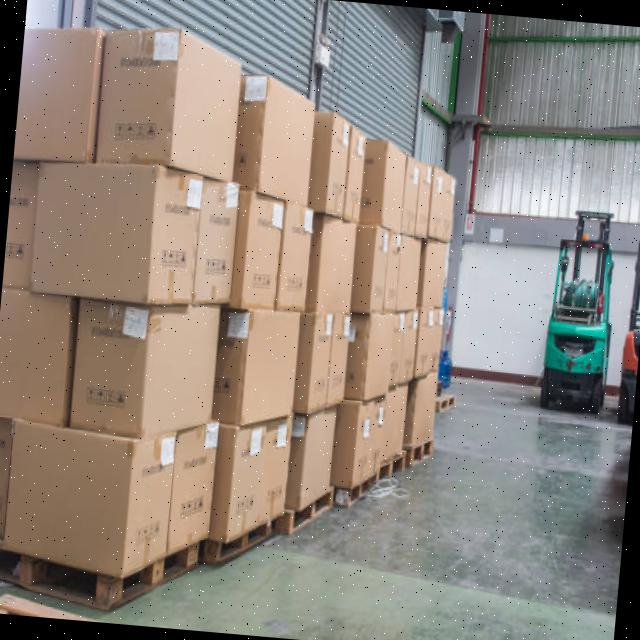Wooden-Pallets: (0, 533, 205, 615), (207, 499, 278, 576), (281, 481, 339, 547), (344, 466, 377, 515), (377, 443, 406, 496), (406, 432, 441, 474)
